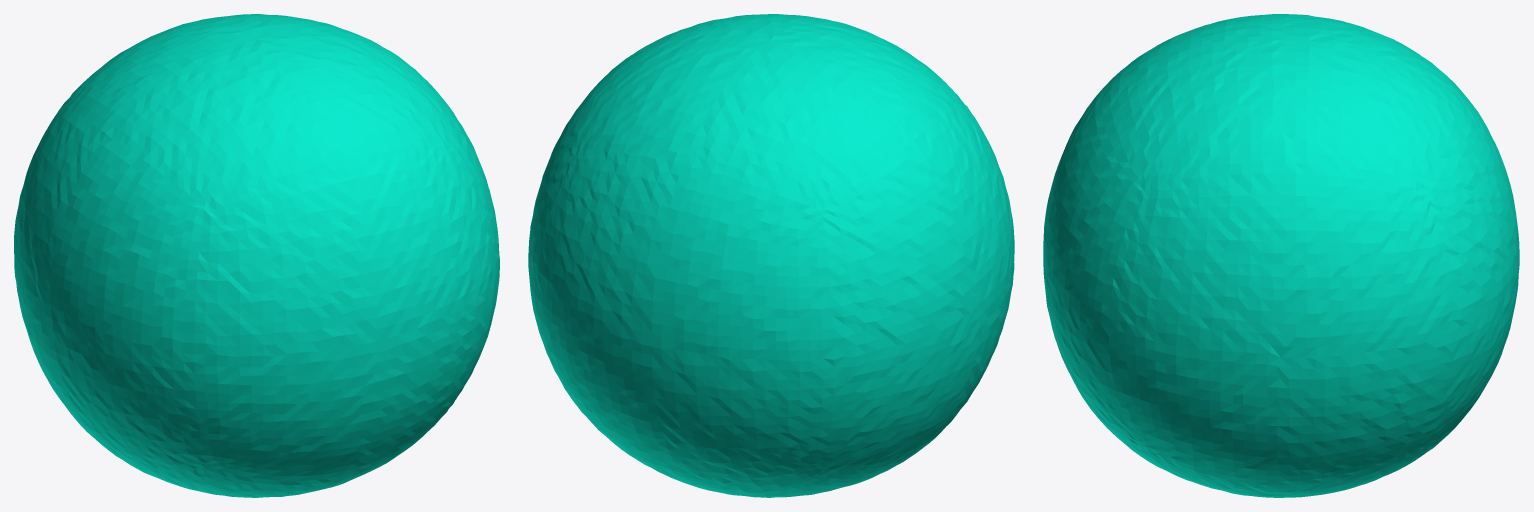
File: Sea06.fbx
The picture shows the model from 3 angles, left to right: view 1: azimuth 30°, elevation 25°; view 2: azimuth 150°, elevation 25°; view 3: azimuth 270°, elevation 25°; orthographic projection.
Visible parts, largest first — view 1: pCube1; view 2: pCube1; view 3: pCube1.
Part boxes in pixels (<box>): pCube1: <box>14,14,499,497</box>; pCube1: <box>528,14,1014,497</box>; pCube1: <box>1043,14,1519,497</box>.
Bounding box in the file's own units: 40.45 × 40.48 × 40.44.
